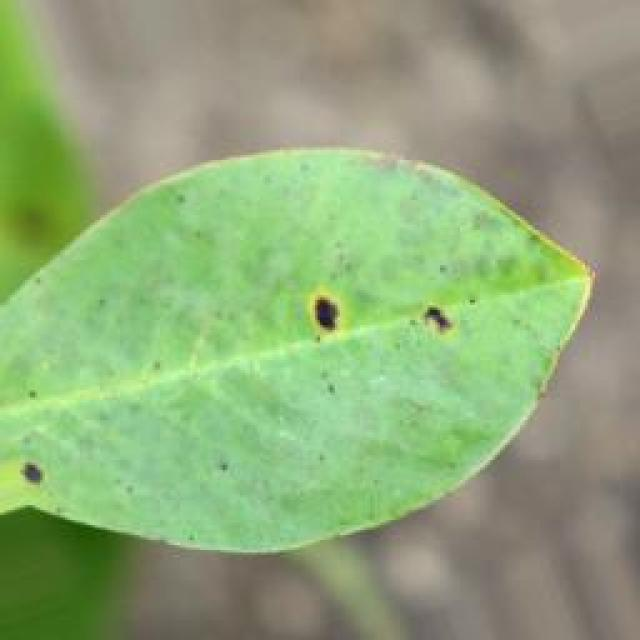Early_leaf_spot: (290, 276, 367, 374), (4, 432, 76, 505), (410, 281, 472, 365)
